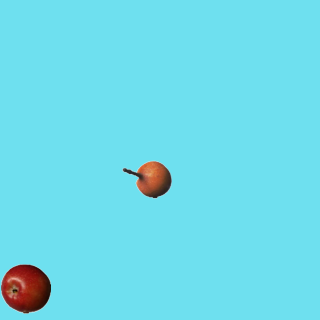Apple Braeburn: (0, 263, 50, 313)
Granadilla: (121, 154, 171, 204)
